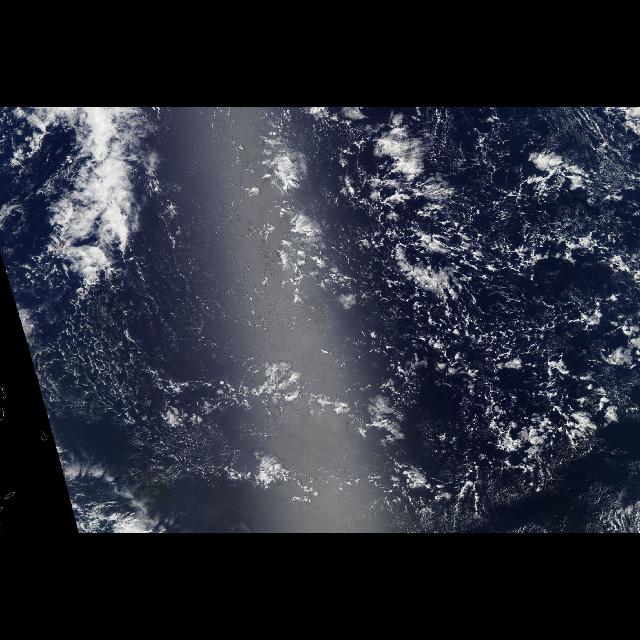Gravel: (376, 210, 626, 410), (23, 294, 160, 432)
